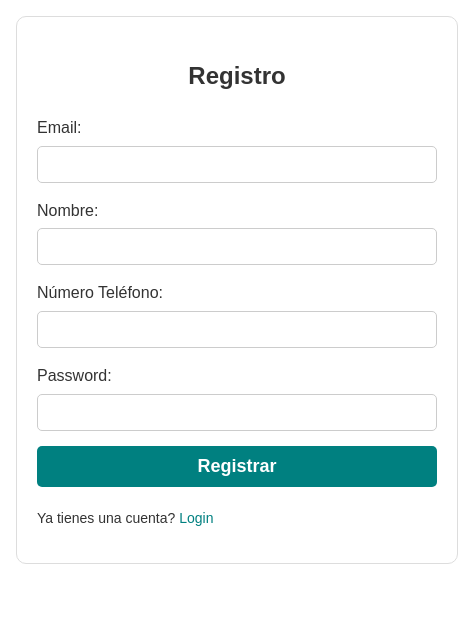
RegisterPage › debería mostrar un mensaje personalizado si el email ya está registrado
The image size is (475, 627).
// Llenar los campos del formulario
Type "usuario@prueba.com" into the field labelled "Email:" at (237, 164), box [37,146,437,183]
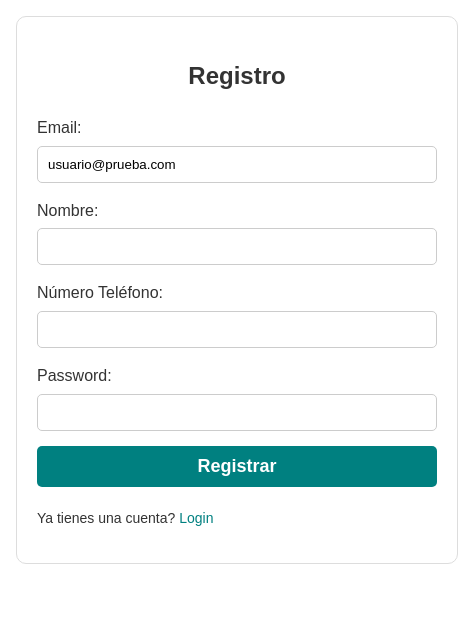
Type "Usuario de prueba" into the field labelled "Nombre:" at (237, 247), box [37,228,437,266]
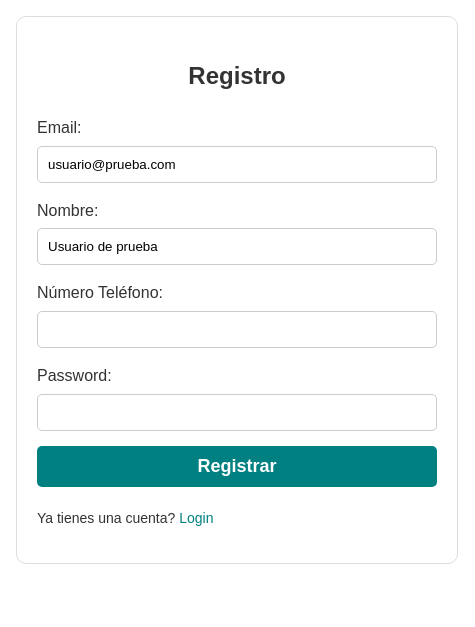
Type "123456789" into the field labelled "Número Teléfono:" at (237, 330), box [37,311,437,348]
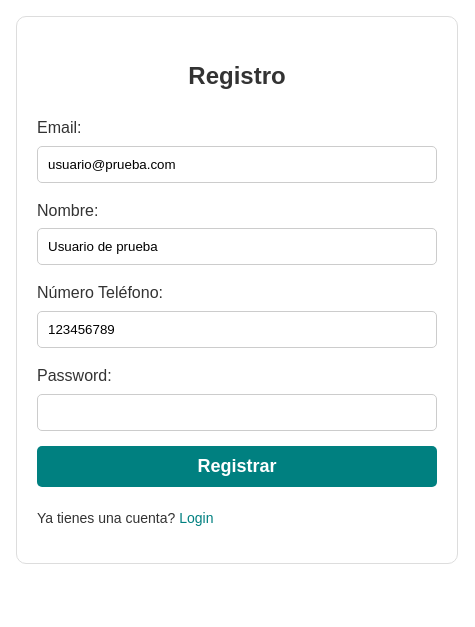
Type "password123" into the password field labelled "Password:" at (237, 412), box [37,394,437,431]
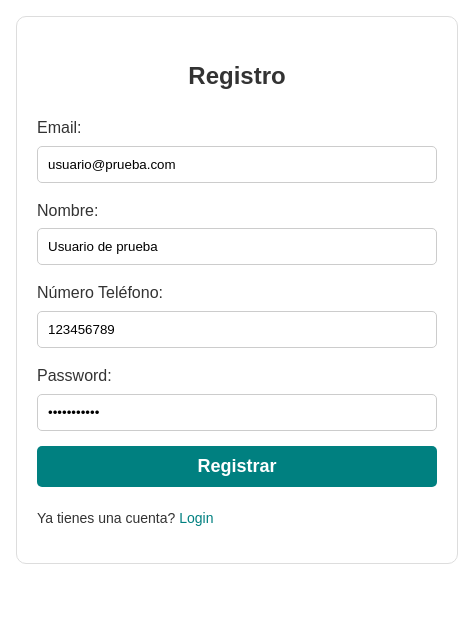
// Hacer clic en el botón de registro
Click the button "Registrar" at (237, 466), box [37,446,437,487]
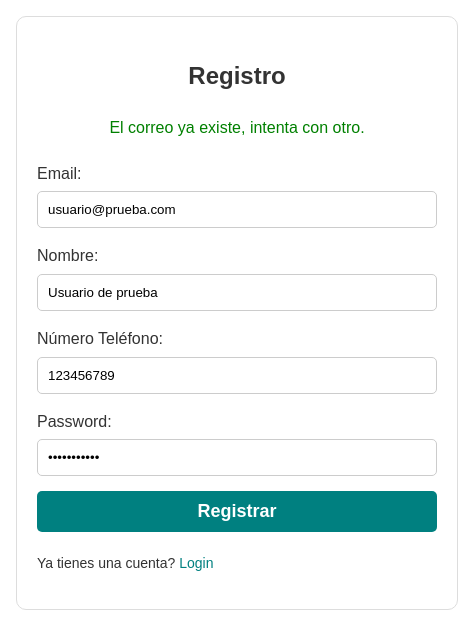
Check: the text "El correo ya existe, intenta con otro." is shown, box [109,119,365,136]
